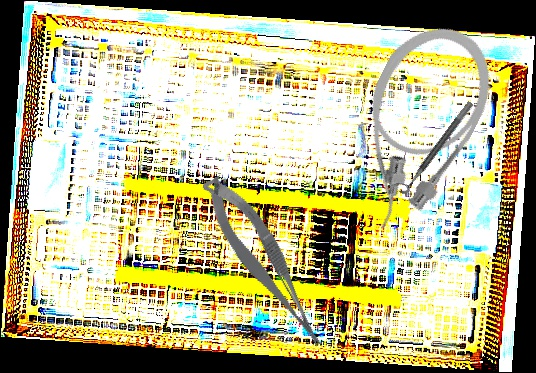Cannula: (318, 8, 512, 246)
Fixation Ring: (391, 94, 475, 197)
Micro Scissor: (197, 165, 330, 362)
